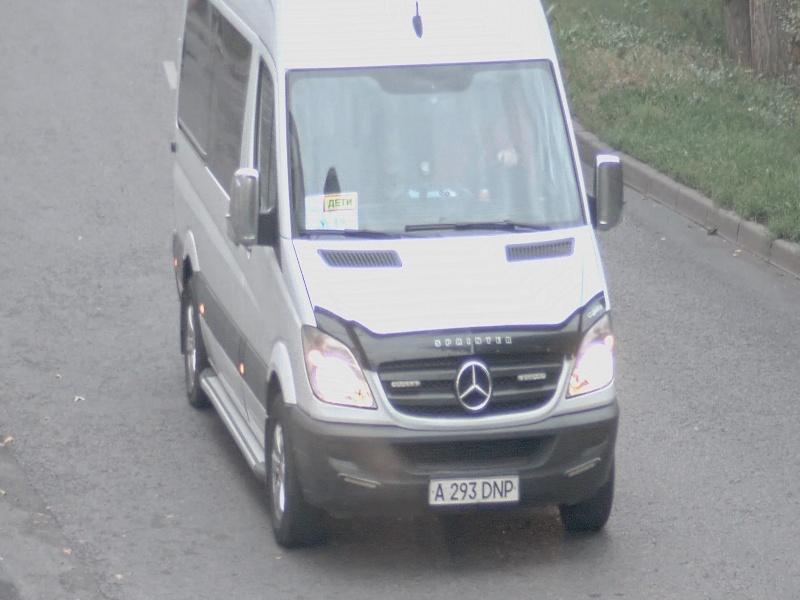plate: (427, 474, 520, 508)
